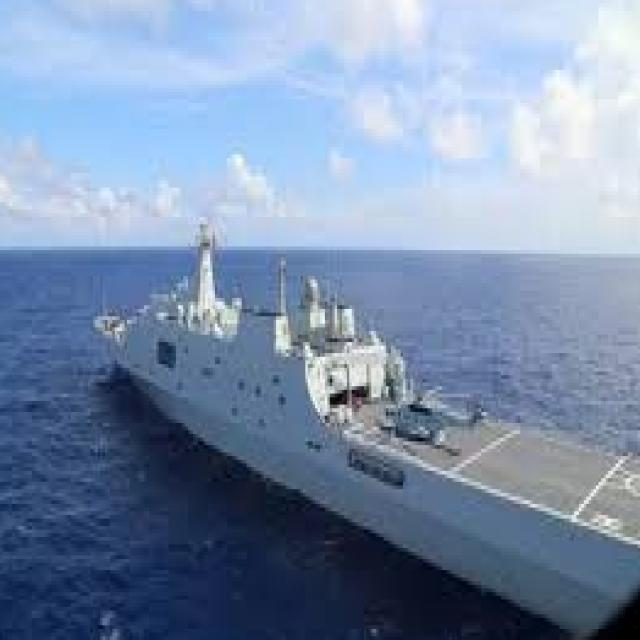navalvessels: (108, 220, 636, 622)
